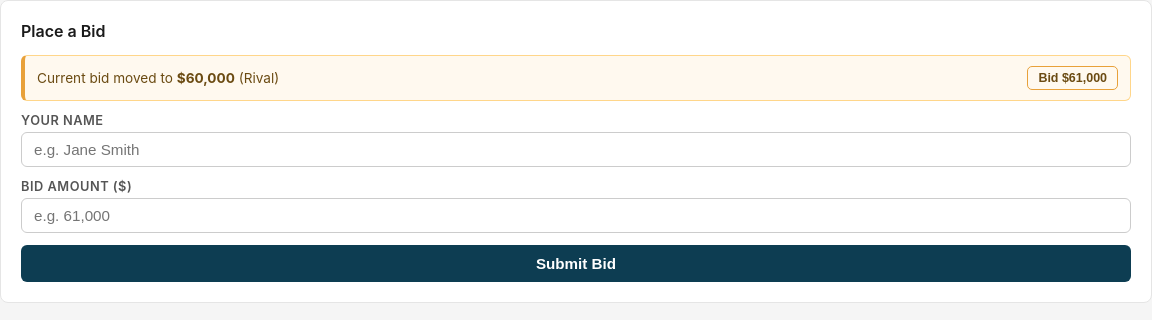
BidForm › when the price moves while composing › fills the amount in only when the user asks
The image size is (1152, 320).
Click the button "Bid $61,000" at (1073, 78), box [1027,66,1118,90]
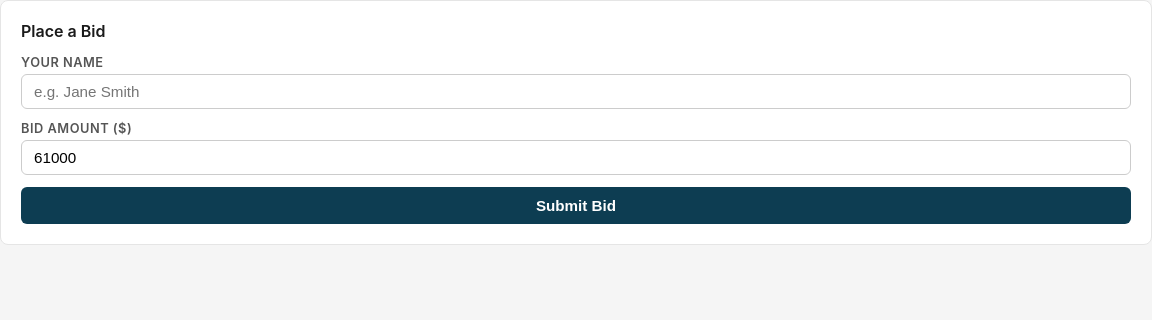
expect the number field labelled "Bid Amount ($)" holds "61000": met, box [21,140,1131,175]
expect the text "Current bid moved" is gone: met
